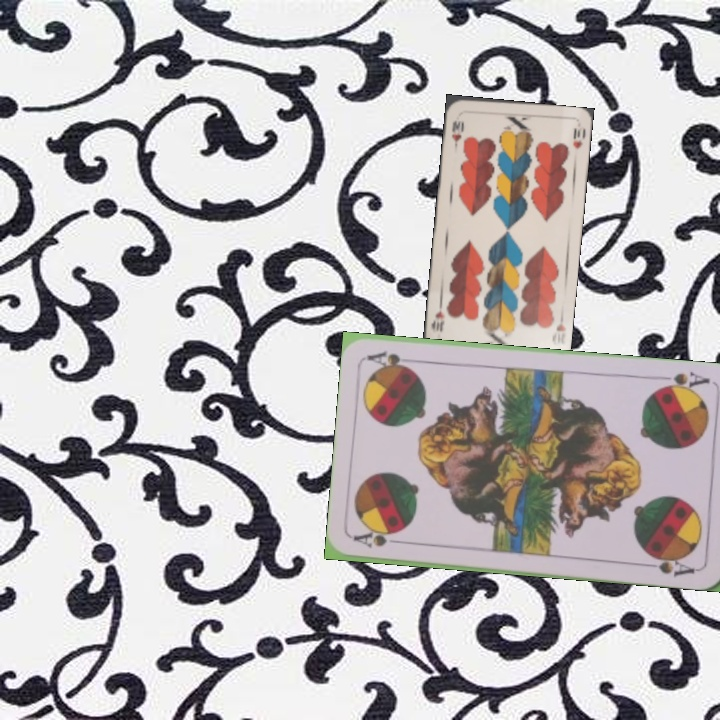H10: (548, 309, 568, 347), (447, 116, 467, 151)
SA: (654, 367, 712, 395), (350, 527, 409, 550)
